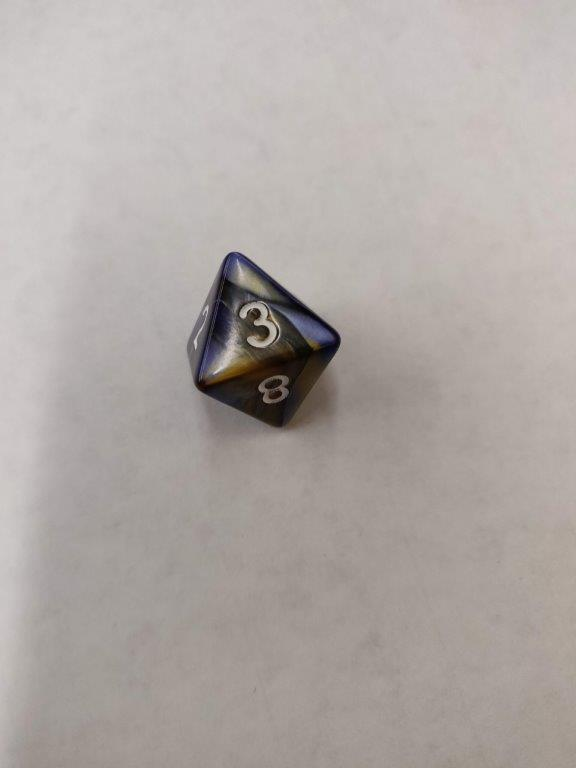d8-3: (185, 248, 341, 433)
